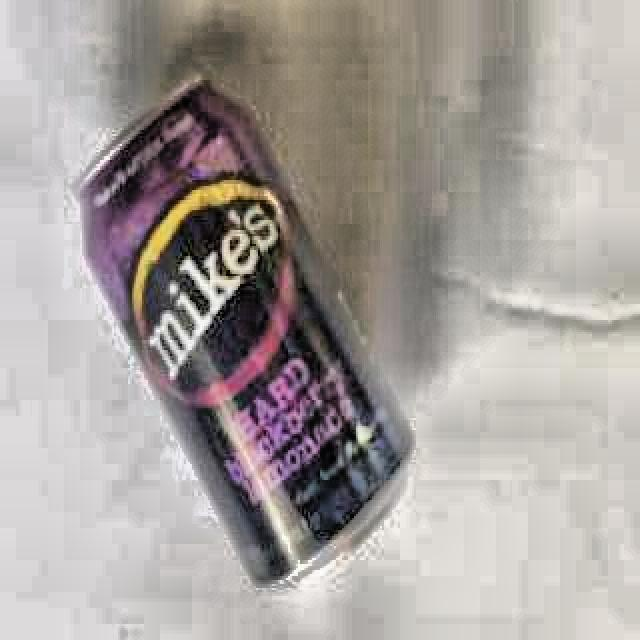metal: (66, 66, 422, 600)
